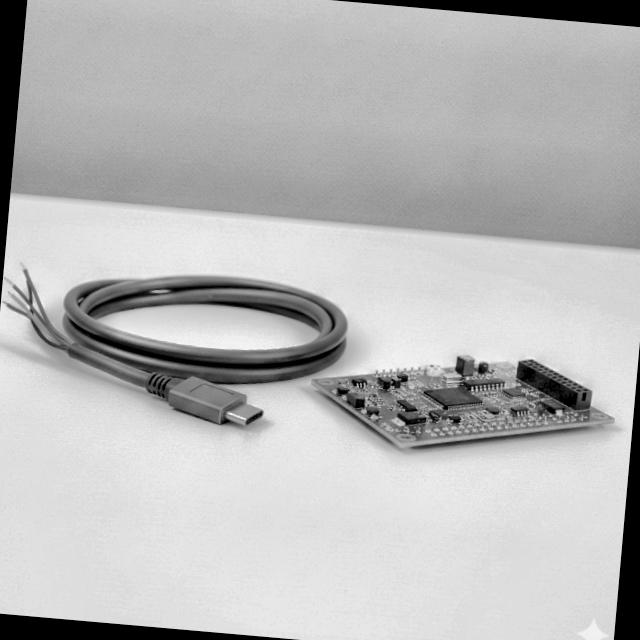Cable: (0, 235, 354, 437)
PCB: (304, 336, 626, 468)
